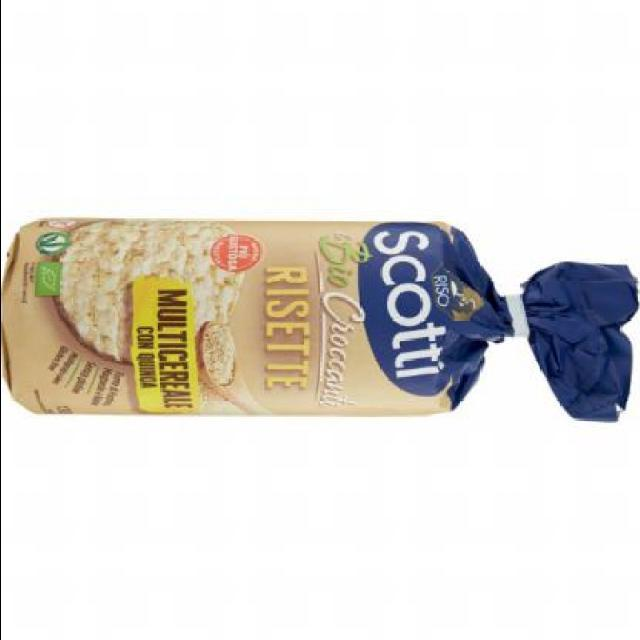Gallette di riso: (1, 212, 637, 422)
